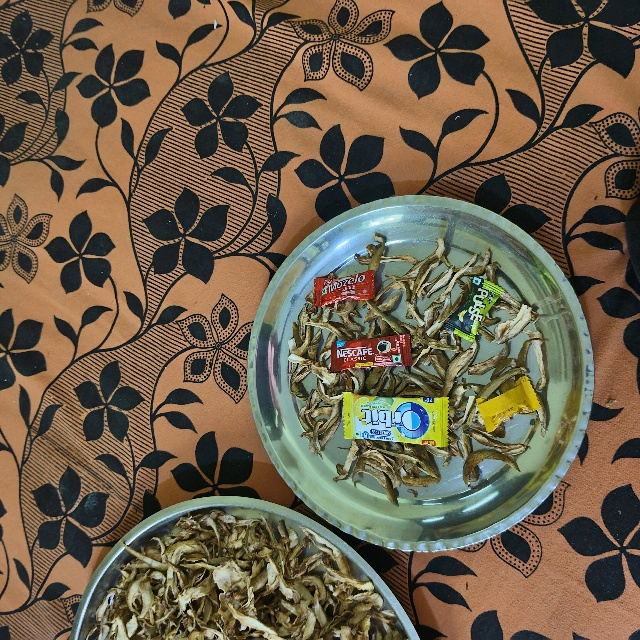Alpenlibe Creamfills: (466, 410, 536, 445)
Mazelo: (310, 272, 378, 302)
Nescafe Coffee: (324, 335, 414, 373)
Orbit: (342, 390, 449, 447)
Pulse: (441, 328, 510, 361)
